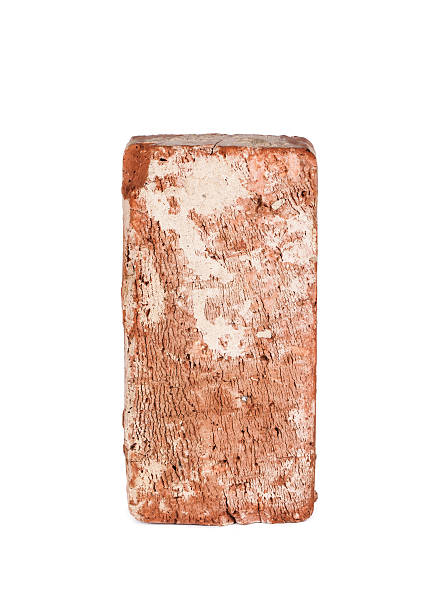brick: (124, 132, 318, 523)
